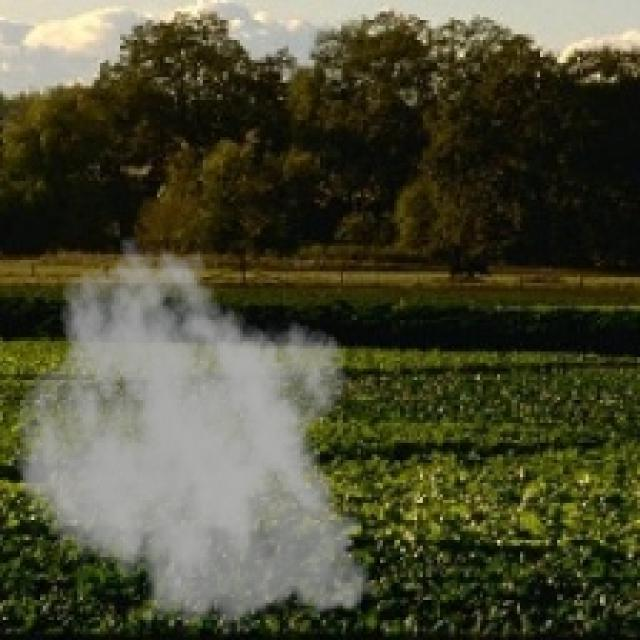Smoke: (14, 234, 386, 637)
